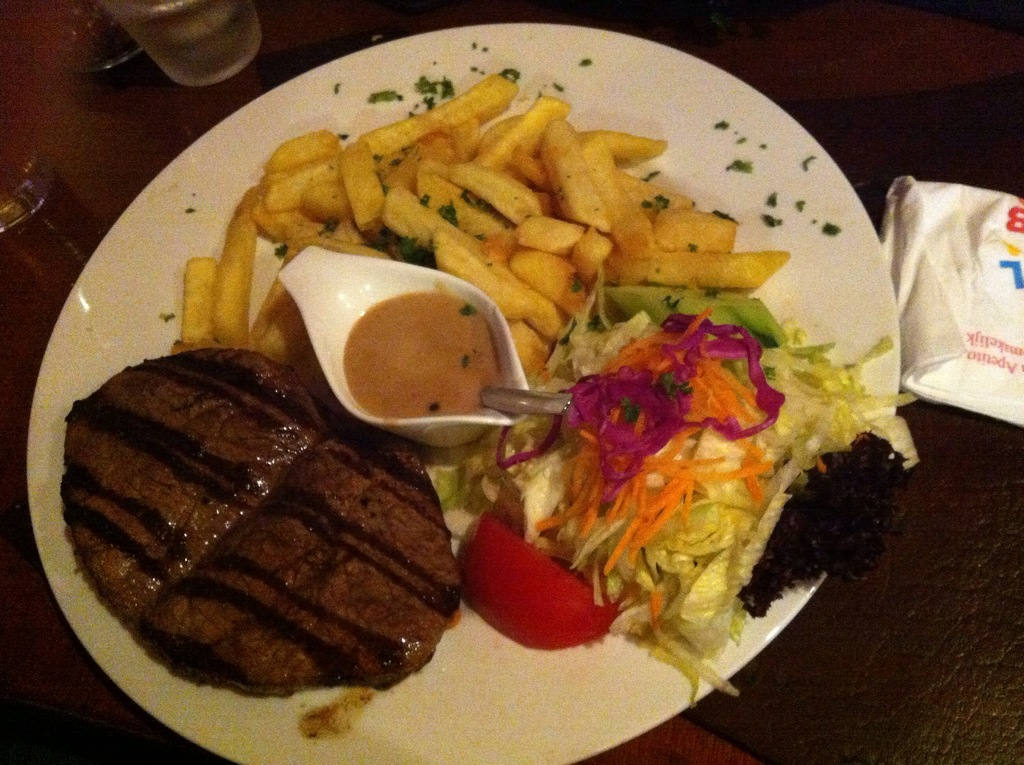French fries: (172, 65, 792, 390)
